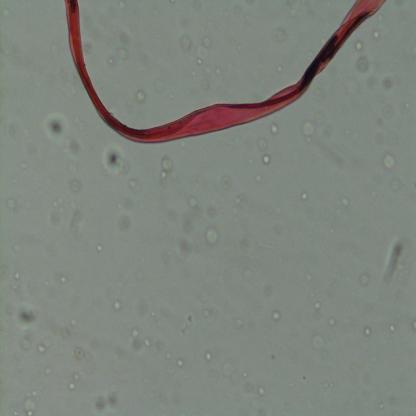Background material: (382, 238, 406, 288), (176, 213, 198, 262), (100, 144, 128, 174), (68, 195, 88, 234), (45, 114, 69, 144), (16, 305, 40, 330), (223, 360, 247, 384), (94, 390, 120, 411), (50, 196, 68, 226), (160, 153, 178, 182), (201, 222, 220, 246), (352, 55, 370, 78), (22, 392, 38, 416), (302, 116, 315, 144), (382, 150, 398, 172), (379, 97, 395, 119), (380, 74, 398, 93), (386, 175, 404, 193), (7, 269, 24, 288), (178, 34, 194, 54), (180, 314, 194, 336), (16, 333, 32, 351), (312, 332, 326, 352), (118, 210, 132, 230), (68, 176, 85, 192), (128, 175, 143, 193), (230, 311, 245, 329), (230, 193, 247, 208), (118, 195, 133, 212), (272, 27, 287, 43), (100, 54, 116, 68), (318, 378, 336, 390), (386, 320, 398, 338), (116, 45, 130, 60), (358, 270, 371, 286), (156, 78, 168, 95), (8, 197, 20, 213), (73, 345, 86, 359), (116, 31, 129, 45), (270, 308, 282, 323), (253, 382, 265, 397), (270, 122, 281, 138), (134, 90, 147, 103), (312, 298, 324, 312), (401, 95, 412, 110), (297, 191, 312, 202), (262, 152, 272, 168), (50, 39, 60, 55), (35, 343, 47, 355), (201, 308, 213, 320), (215, 66, 227, 78), (132, 339, 143, 352), (339, 195, 349, 209), (258, 136, 268, 150), (113, 300, 123, 314), (176, 356, 186, 370), (366, 189, 381, 198), (71, 370, 83, 381), (371, 27, 381, 40), (223, 175, 232, 189), (143, 335, 153, 347), (42, 364, 52, 376), (130, 328, 140, 340), (200, 78, 210, 90), (203, 351, 212, 364), (203, 36, 213, 47), (327, 316, 337, 327), (196, 56, 206, 66), (188, 197, 197, 208), (254, 172, 262, 184), (356, 39, 363, 52), (59, 274, 68, 284), (364, 327, 372, 338), (95, 243, 104, 252), (68, 383, 76, 392), (21, 162, 28, 172), (305, 272, 312, 280), (168, 352, 174, 360), (413, 321, 416, 329), (311, 293, 315, 298)
Cotton: (64, 0, 390, 144)
